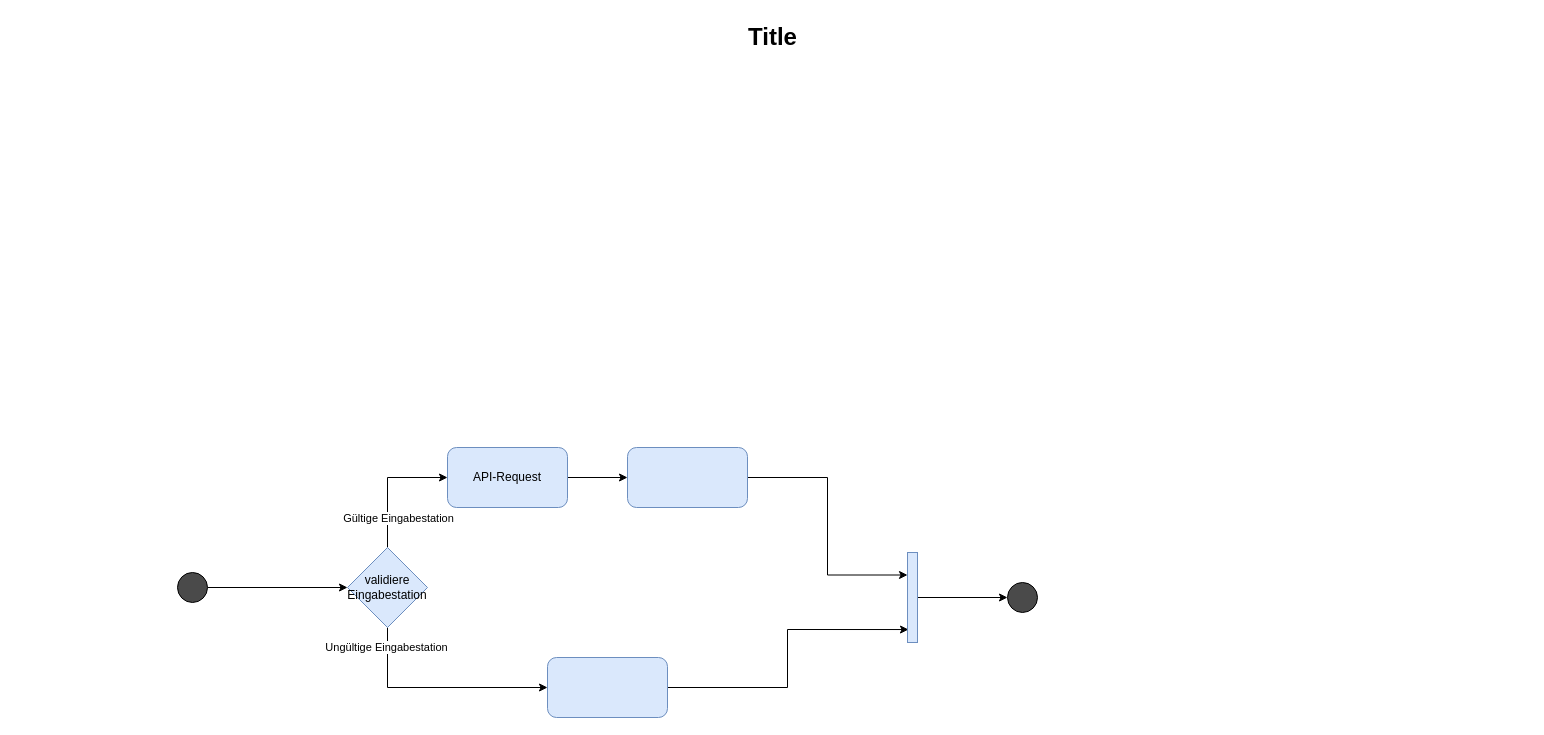
This 1544x735 diagram has some shape labels left out. The box of each missing label's shape, as (x1, y1, x2, y2) in pixels:
Gebe Fehler aus: (546, 656, 668, 718)
Informationen im Grid Anzeigen: (626, 446, 748, 508)
